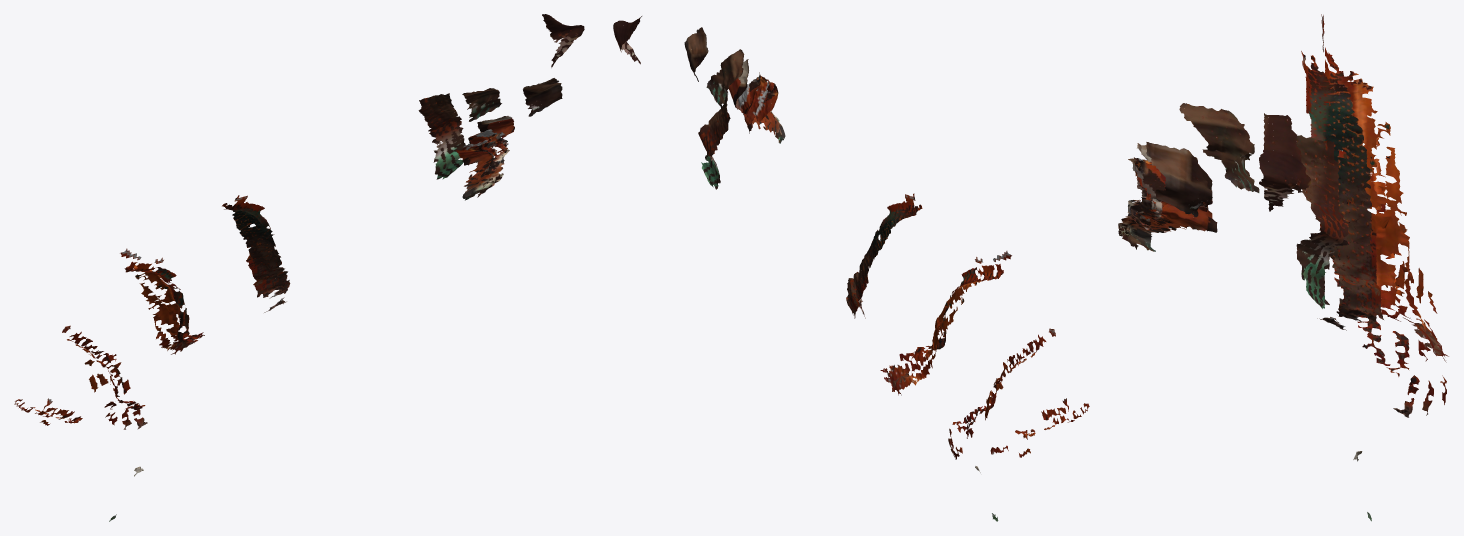
The model's file is scan_20260927_210524_24036.glb.
3 renders of one model, left to right at view 1: azimuth 30°, elevation 25°; view 2: azimuth 150°, elevation 25°; view 3: azimuth 270°, elevation 25°, orthographic. The views are drawn at different scales.
Parts seen in each view (by area): view 1: MobileScan3D_Textured; view 2: MobileScan3D_Textured; view 3: MobileScan3D_Textured.
Part boxes in pixels (bbox=[...]): MobileScan3D_Textured: bbox=[14, 14, 584, 521]; MobileScan3D_Textured: bbox=[613, 16, 1089, 521]; MobileScan3D_Textured: bbox=[1118, 14, 1448, 521].
Bounding box in the file's own units: 0.9617 × 0.7242 × 0.2824.
Materials: 1 (1 with a texture image).
